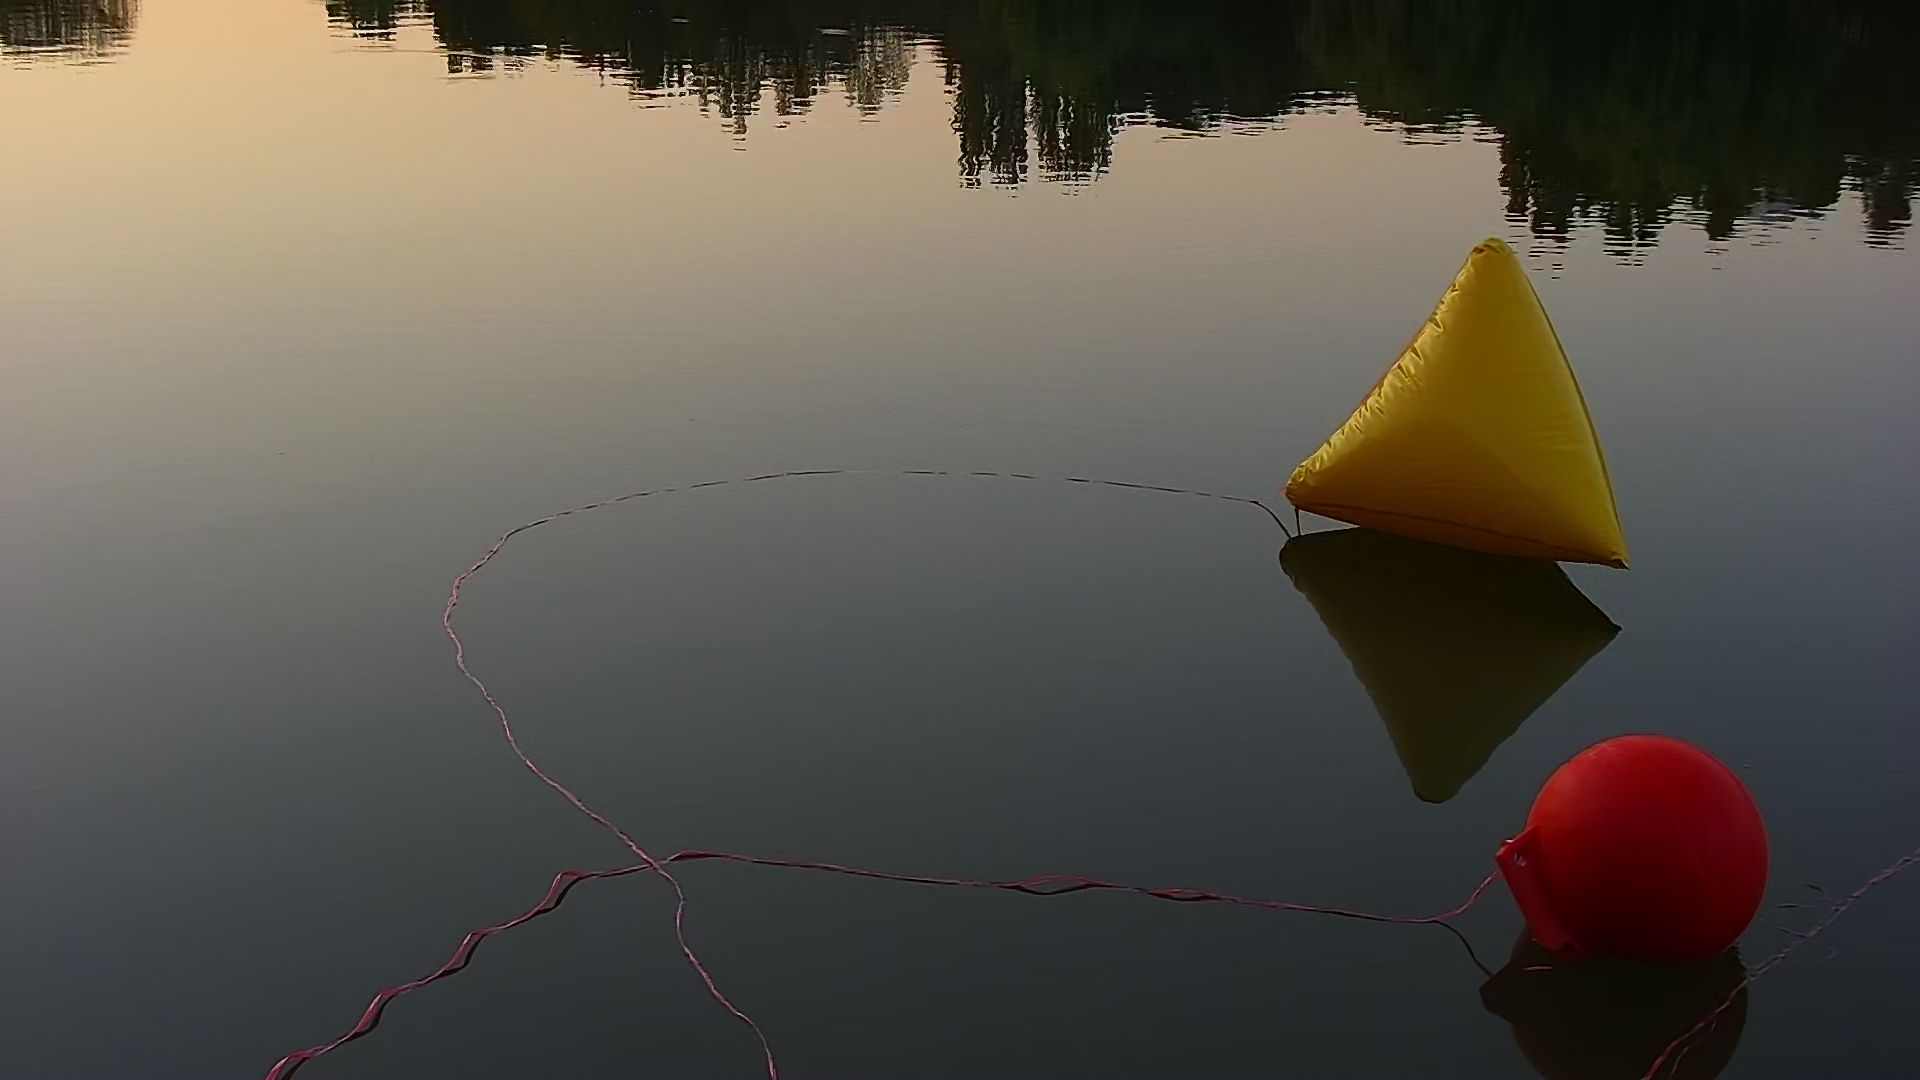buoy: (1491, 735, 1771, 977)
rubbish: (1286, 210, 1648, 588)
